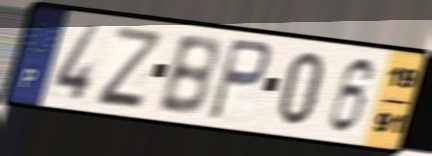0: (275, 49, 328, 128)
4: (50, 20, 100, 103)
6: (328, 55, 376, 136)
B: (153, 34, 221, 119)
P: (204, 36, 274, 124)
Z: (94, 23, 163, 109)
